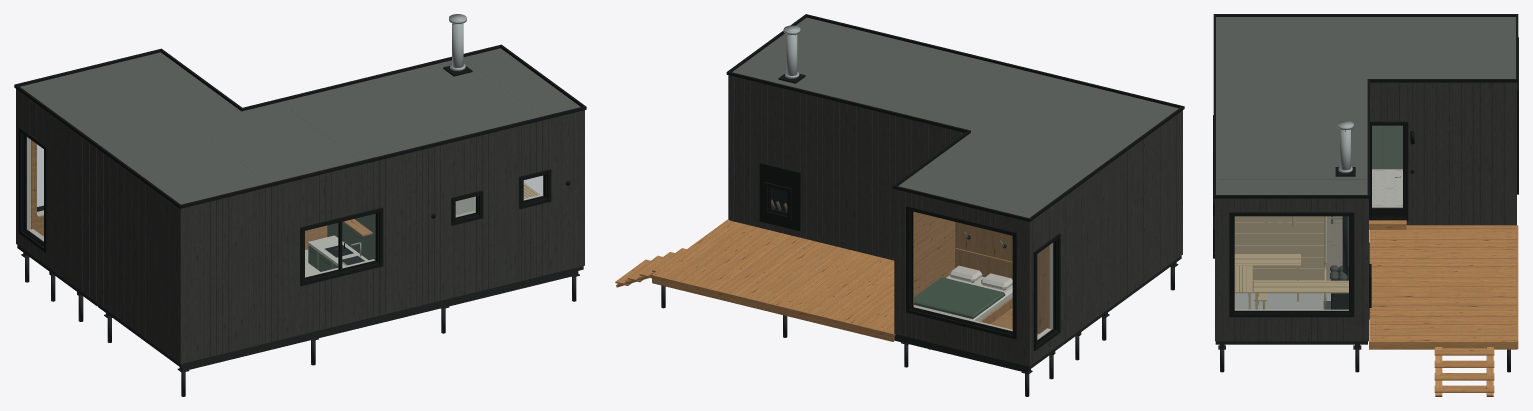
The model's file is Campingdom40Banya.glb.
3 renders of one model, left to right at view 1: azimuth 30°, elevation 25°; view 2: azimuth 150°, elevation 25°; view 3: azimuth 270°, elevation 25°, orthographic. The views are drawn at different scales.
Visible parts, largest first — view 1: 02_Facade__F01_Charcoal_pine_20x140, 04_Roof__R01_Grey_PVC_membrane, 04_Roof__M01_Anthracite_frames, 03_Windows_Doors__G01_Clear_grey_glazing, 03_Windows_Doors__M01_Anthracite_frames, 06_Foundation__S01_Black_steel_piles, 01_Structure__S01_Black_steel_piles, 12_Bathroom__I09_Muted_sage_interior, 07_Interior__I07_Natural_pine_lining, 11_Sauna__FU05_Brushed_steel, 08_Furniture__FU06_Light_worktop, 03_Windows_Doors__M02_Glazing_gasket; view 2: 02_Facade__F01_Charcoal_pine_20x140, 04_Roof__R01_Grey_PVC_membrane, 05_Terrace__T01_Warm_oiled_pine_deck, 03_Windows_Doors__G01_Clear_grey_glazing, 04_Roof__M01_Anthracite_frames, 03_Windows_Doors__M01_Anthracite_frames, 13_Bedroom__I07_Natural_pine_lining, 07_Interior__I07_Natural_pine_lining, 13_Bedroom__FU07_Moss_green_linen, 09_Details__M01_Anthracite_frames, 06_Foundation__S01_Black_steel_piles, 13_Bedroom__FU03_Natural_white_bedding (+3 smaller); view 3: 04_Roof__R01_Grey_PVC_membrane, 02_Facade__F01_Charcoal_pine_20x140, 05_Terrace__T01_Warm_oiled_pine_deck, 03_Windows_Doors__G01_Clear_grey_glazing, 11_Sauna__I08_Pale_aspen_bench, 03_Windows_Doors__M01_Anthracite_frames, 04_Roof__M01_Anthracite_frames, 07_Interior__I06_Ivory_porcelain, 02_Facade__F02_Shadow_in_timber_joints, 11_Sauna__I04_Warm_grey_porcelain, 13_Bedroom__I09_Muted_sage_interior, 11_Sauna__SA03_Bronze_sauna_glass (+6 smaller).
Part boxes in pixels (x1,y1,x2,y2): 02_Facade__F01_Charcoal_pine_20x140: [16, 89, 584, 364]; 04_Roof__R01_Grey_PVC_membrane: [20, 48, 580, 204]; 04_Roof__M01_Anthracite_frames: [14, 44, 586, 208]; 03_Windows_Doors__G01_Clear_grey_glazing: [26, 137, 543, 277]; 03_Windows_Doors__M01_Anthracite_frames: [18, 127, 551, 285]; 06_Foundation__S01_Black_steel_piles: [21, 252, 579, 396]; 01_Structure__S01_Black_steel_piles: [17, 245, 583, 367]; 12_Bathroom__I09_Muted_sage_interior: [327, 214, 374, 260]; 07_Interior__I07_Natural_pine_lining: [31, 140, 543, 259]; 11_Sauna__FU05_Brushed_steel: [449, 14, 466, 71]; 08_Furniture__FU06_Light_worktop: [305, 235, 367, 275]; 03_Windows_Doors__M02_Glazing_gasket: [24, 135, 544, 278]; 02_Facade__F01_Charcoal_pine_20x140: [728, 75, 1182, 366]; 04_Roof__R01_Grey_PVC_membrane: [732, 17, 1178, 217]; 05_Terrace__T01_Warm_oiled_pine_deck: [615, 219, 894, 341]; 03_Windows_Doors__G01_Clear_grey_glazing: [771, 188, 1053, 340]; 04_Roof__M01_Anthracite_frames: [726, 14, 1184, 221]; 03_Windows_Doors__M01_Anthracite_frames: [764, 182, 1060, 350]; 13_Bedroom__I07_Natural_pine_lining: [955, 222, 1048, 333]; 07_Interior__I07_Natural_pine_lining: [913, 211, 1049, 328]; 13_Bedroom__FU07_Moss_green_linen: [914, 277, 1005, 319]; 09_Details__M01_Anthracite_frames: [759, 163, 800, 230]; 06_Foundation__S01_Black_steel_piles: [661, 262, 1178, 396]; 13_Bedroom__FU03_Natural_white_bedding: [914, 265, 1012, 321]; 04_Roof__R01_Grey_PVC_membrane: [1216, 17, 1515, 194]; 02_Facade__F01_Charcoal_pine_20x140: [1215, 82, 1516, 341]; 05_Terrace__T01_Warm_oiled_pine_deck: [1369, 220, 1518, 396]; 03_Windows_Doors__G01_Clear_grey_glazing: [1235, 126, 1402, 310]; 11_Sauna__I08_Pale_aspen_bench: [1234, 216, 1348, 309]; 03_Windows_Doors__M01_Anthracite_frames: [1213, 37, 1518, 317]; 04_Roof__M01_Anthracite_frames: [1213, 14, 1518, 198]; 07_Interior__I06_Ivory_porcelain: [1326, 169, 1402, 280]; 02_Facade__F02_Shadow_in_timber_joints: [1234, 83, 1504, 337]; 11_Sauna__I04_Warm_grey_porcelain: [1234, 292, 1330, 309]; 13_Bedroom__I09_Muted_sage_interior: [1372, 125, 1402, 169]; 11_Sauna__SA03_Bronze_sauna_glass: [1326, 216, 1342, 280].
Bounding box in the file's own units: 10.57 × 5.41 × 6.65.
27 materials, 4 textured.
